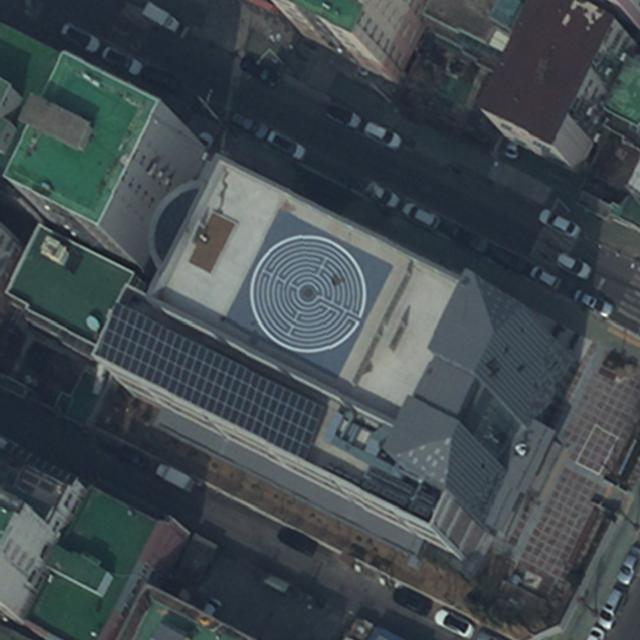panel: (96, 301, 326, 460)
